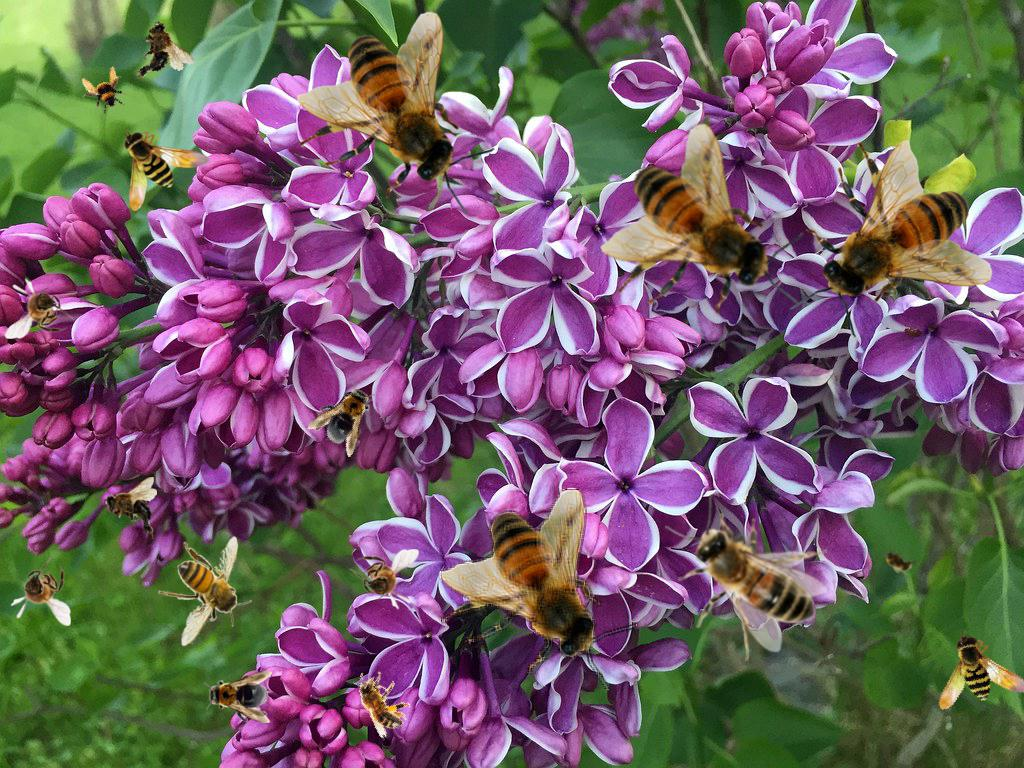Bee: (572, 102, 827, 360), (297, 11, 496, 215), (439, 487, 638, 691), (789, 140, 993, 339), (665, 494, 827, 661), (929, 628, 1024, 738), (158, 536, 252, 647), (122, 129, 210, 211), (305, 372, 387, 458), (341, 660, 419, 741), (121, 14, 196, 84), (10, 556, 71, 626), (349, 549, 419, 610), (5, 278, 75, 339), (74, 62, 134, 122), (204, 671, 272, 723), (104, 477, 157, 539), (875, 540, 921, 582)
